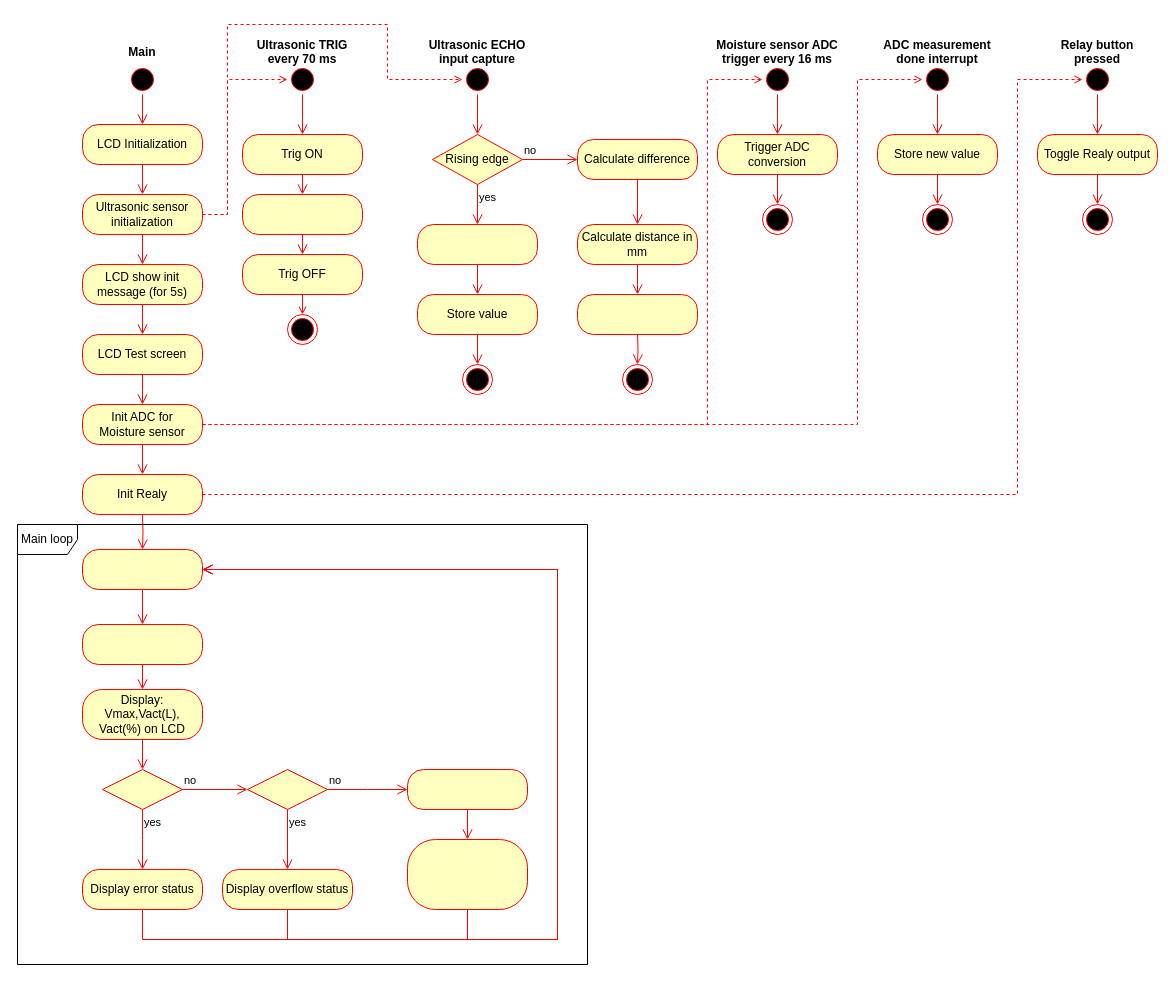
This 1175x982 diagram has some shape labels left out. The centre of each missing label's shape, as x and y in pixels:
"Calculate new average" goes at [637,314].
"Clear LCD" goes at [142,569].
"Display OK status" goes at [467,789].
"Display water tank image according to amount of water in tank" goes at [467,874].
"Error" goes at [142,789].
"Load avg. ultrasonic measurement" goes at [142,644].
"Overflow" goes at [287,789].
"Set Rising flag" goes at [477,244].
"Wait 10 us" goes at [302,214].
